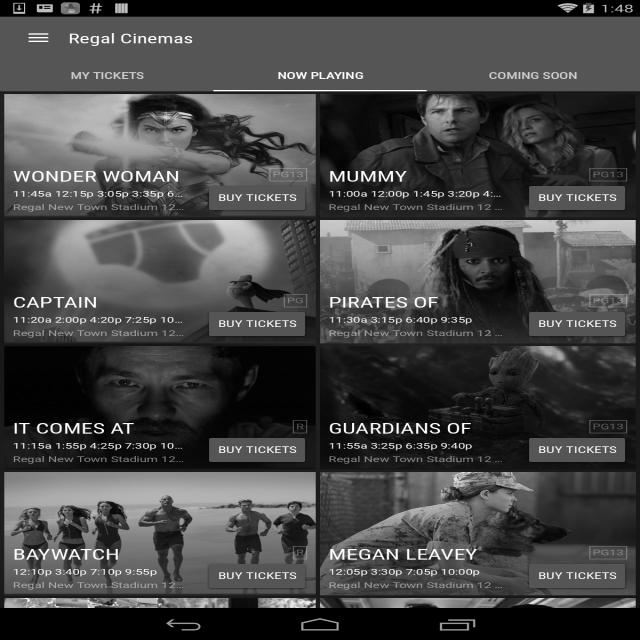Button: (516, 307, 635, 341), (215, 432, 308, 467), (528, 183, 630, 211), (523, 566, 631, 590), (208, 185, 307, 211), (212, 556, 310, 582), (523, 438, 624, 462), (204, 312, 306, 334)
TextView: (330, 542, 507, 592), (323, 417, 494, 466), (5, 286, 174, 326), (326, 287, 487, 326), (14, 541, 166, 580), (9, 422, 144, 462), (17, 163, 195, 191), (62, 28, 198, 48), (467, 65, 594, 84), (51, 64, 161, 84), (266, 62, 374, 82), (324, 168, 418, 187)
